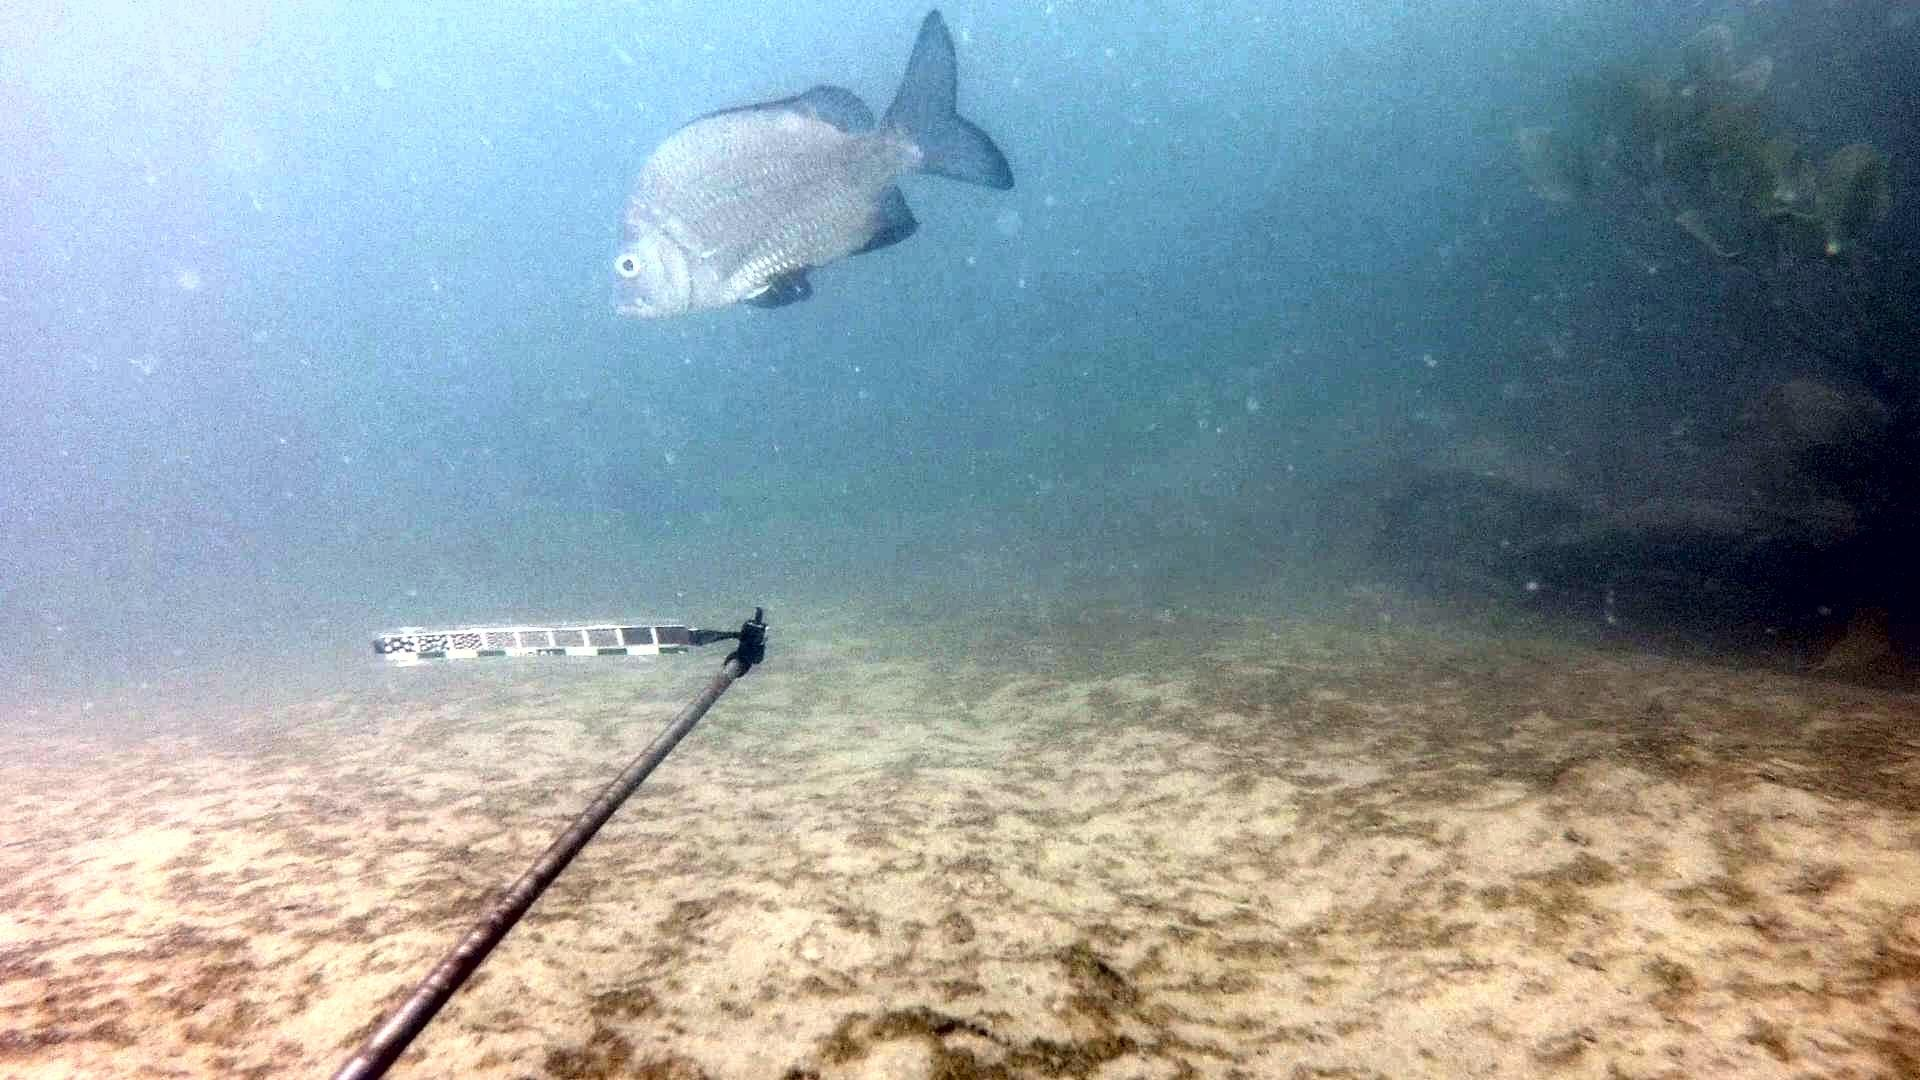acanthopagrus palmaris: (596, 3, 1029, 355)
